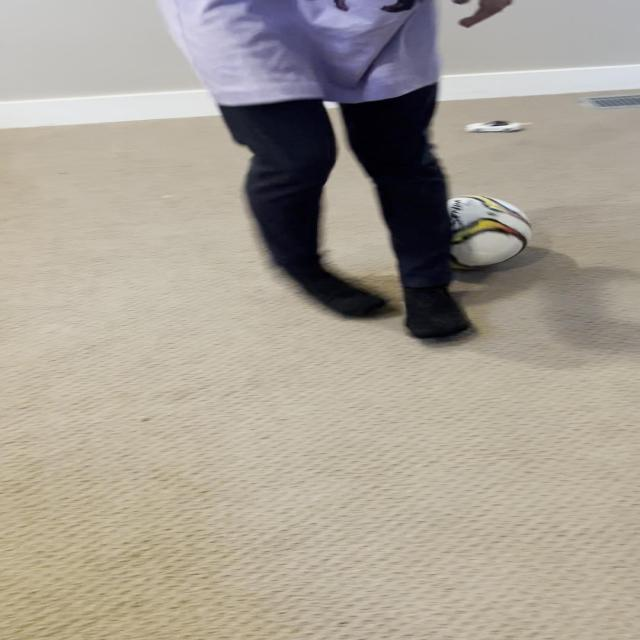Soccer Ball: (413, 195, 533, 267)
